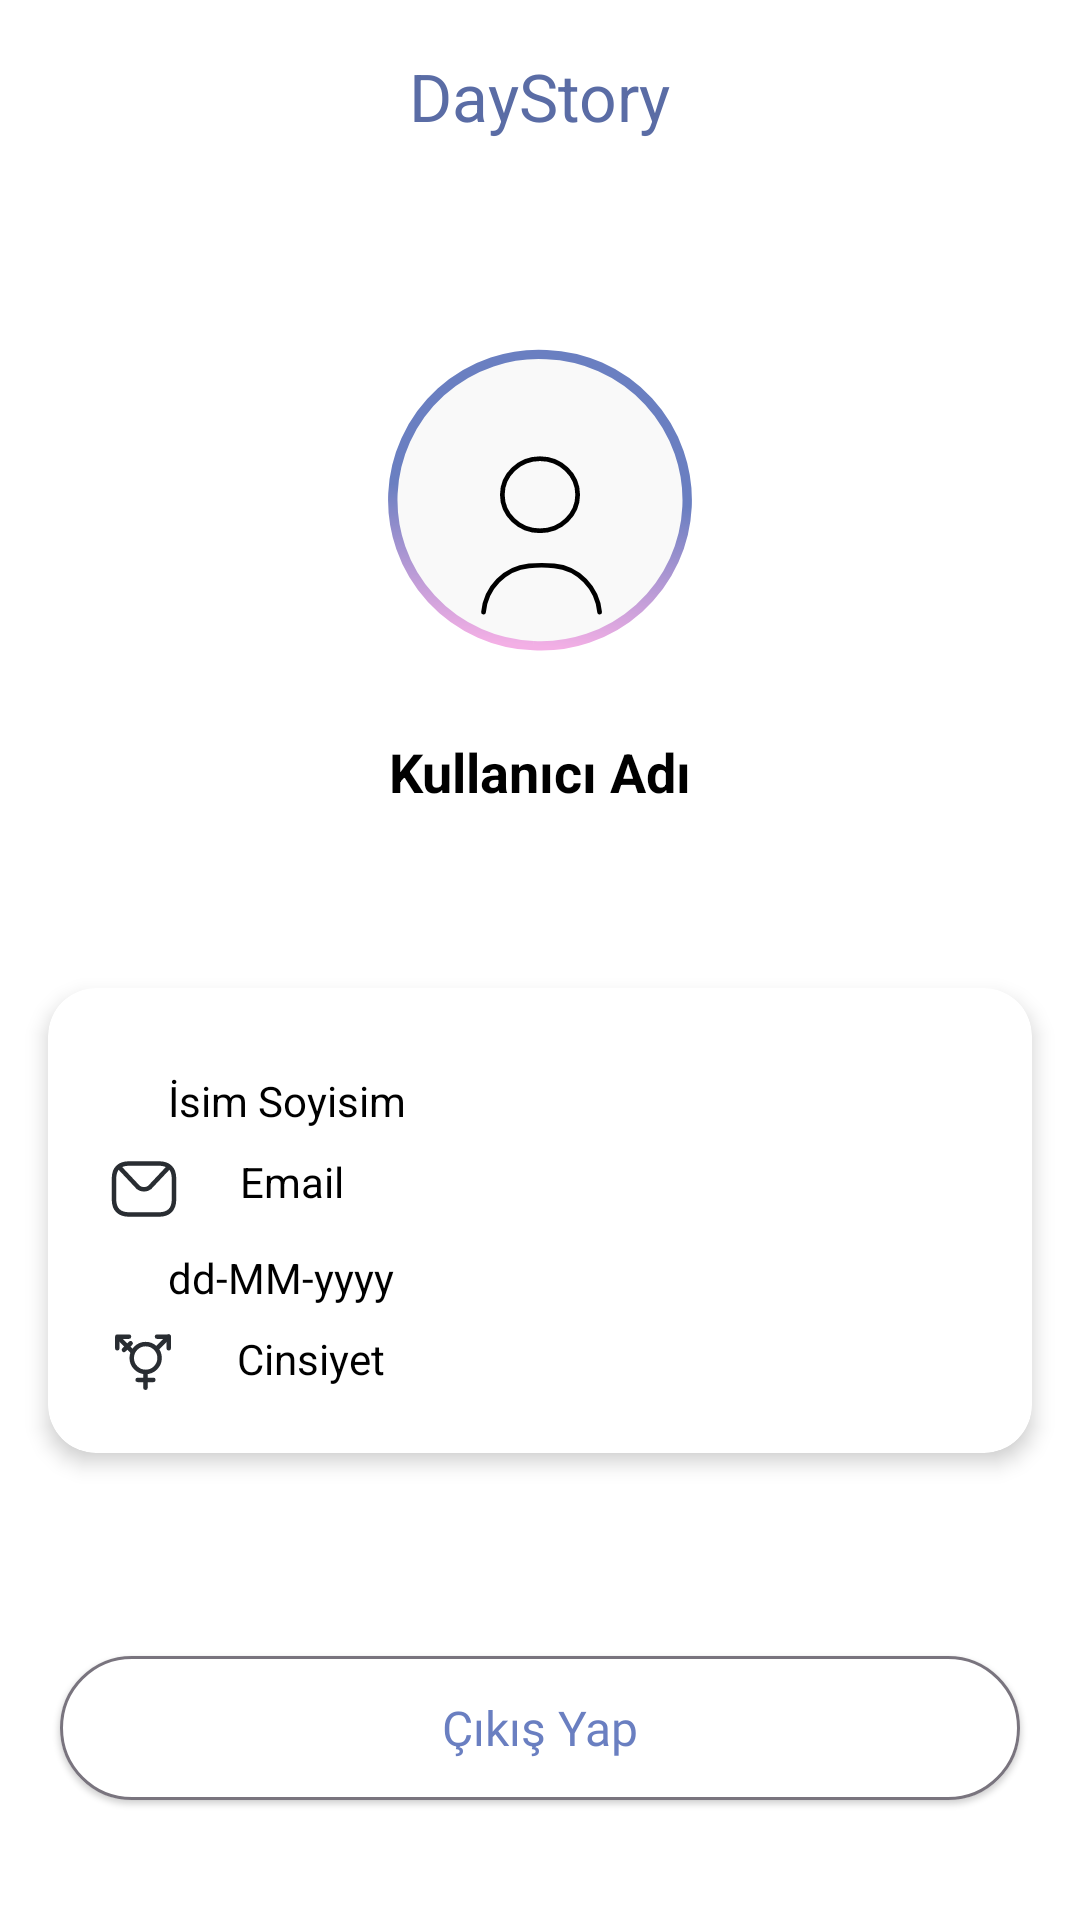

Screen size 1080x1920. Icon name, then its box in pixels as {"left": x1, "top": y1, "right": x2, "bottom": y2}:
gender: {"left": 115, "top": 1334, "right": 171, "bottom": 1390}
profile photo: {"left": 388, "top": 349, "right": 692, "bottom": 651}
